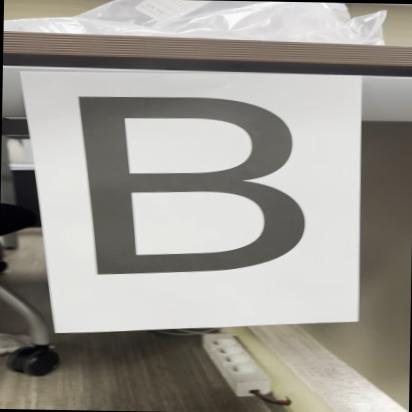seat: (52, 84, 326, 293)
